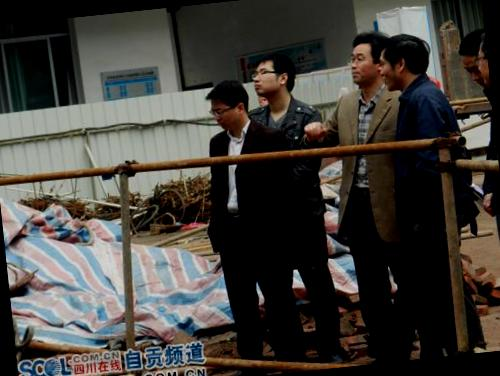no_helmet: (378, 30, 434, 92), (202, 75, 254, 136), (249, 50, 299, 103), (344, 29, 388, 87), (456, 23, 488, 86)
